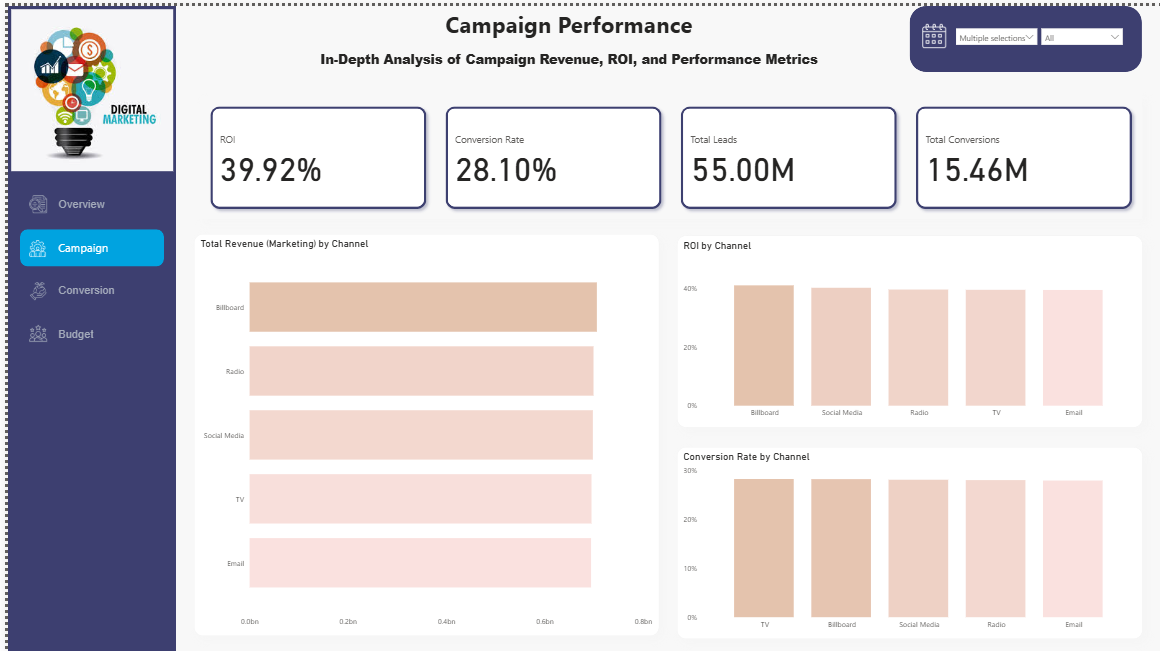

The dashboard page shown, as its layout file describes it:
{"tool":"powerbi","page":{"name":"Campaign","canvas":[1920,1080],"ordinal":1},"visuals":[{"type":"shape","box":[1502.5,0,387.5,110],"z":0,"group":"g2"},{"type":"image","box":[1515.4,9.1,56.8,80.3],"z":1000,"group":"g2"},{"type":"pageNavigator","box":[0,300,280,280],"z":1000,"group":"g1"},{"type":"image","box":[30,310.9,40,40],"z":1500,"group":"g1"},{"type":"slicer","fields":{"Values":["Date.Year"]},"box":[1568.7,27.5,155,72.5],"z":2000,"group":"g2"},{"type":"image","box":[30,455,40,40],"z":2000,"group":"g1"},{"type":"image","box":[30,385,40,40],"z":2500,"group":"g1"},{"type":"slicer","fields":{"Values":["Date.ShortMonthName"]},"box":[1711.3,27.5,155,75],"z":3000,"group":"g2"},{"type":"image","box":[30,525,40,40],"z":3000,"group":"g1"},{"type":"shape","box":[0,0,280,1080.5],"z":5000},{"type":"group","id":"g1","title":"Sidebar","box":[0,300,280,280],"z":6000},{"type":"group","id":"g2","title":"Filter","box":[1502.5,0,387.5,110],"z":7000},{"type":"cardVisual","fields":{"Data":["_Measures.ROI","_Measures.Conversion Rate","_Measures.Total Leads","_Measures.Total Conversions"]},"box":[320,150,1570,205],"z":14000},{"type":"columnChart","fields":{"Category":["Marketing Campaigns.Channel"],"Y":["_Measures.ROI"]},"box":[1115,382.1,775.8,320],"z":15000},{"type":"columnChart","fields":{"Y":["_Measures.Conversion Rate"],"Category":["Marketing Campaigns.Channel"]},"box":[1115,735,775.8,320],"z":16000},{"type":"clusteredBarChart","fields":{"Y":["_Measures.Total Revenue (Marketing)"],"Category":["Marketing Campaigns.Channel"]},"box":[310,380,775,670],"z":17000},{"type":"textbox","box":[280,0,1310,120],"z":18000},{"type":"image","box":[0,0,280,280],"z":20000}]}

Visuals, with their boxes on the page's 1920x1080 design canvas (x1, y1, x2, y2). These are canvas units, not pixel positions in the 1160x651 screenshot, which may show the page scaled, cropped or inside an application window:
shape: (left=1502, top=0, right=1890, bottom=110)
image: (left=1515, top=9, right=1572, bottom=89)
pageNavigator: (left=0, top=300, right=280, bottom=580)
image: (left=30, top=311, right=70, bottom=351)
slicer - Date.Year: (left=1569, top=28, right=1724, bottom=100)
image: (left=30, top=455, right=70, bottom=495)
image: (left=30, top=385, right=70, bottom=425)
slicer - Date.ShortMonthName: (left=1711, top=28, right=1866, bottom=102)
image: (left=30, top=525, right=70, bottom=565)
shape: (left=0, top=0, right=280, bottom=1080)
"Sidebar" group: (left=0, top=300, right=280, bottom=580)
"Filter" group: (left=1502, top=0, right=1890, bottom=110)
cardVisual - _Measures.ROI x _Measures.Conversion Rate: (left=320, top=150, right=1890, bottom=355)
columnChart - Marketing Campaigns.Channel x _Measures.ROI: (left=1115, top=382, right=1891, bottom=702)
columnChart - _Measures.Conversion Rate x Marketing Campaigns.Channel: (left=1115, top=735, right=1891, bottom=1055)
clusteredBarChart - _Measures.Total Revenue (Marketing) x Marketing Campaigns.Channel: (left=310, top=380, right=1085, bottom=1050)
textbox: (left=280, top=0, right=1590, bottom=120)
image: (left=0, top=0, right=280, bottom=280)
